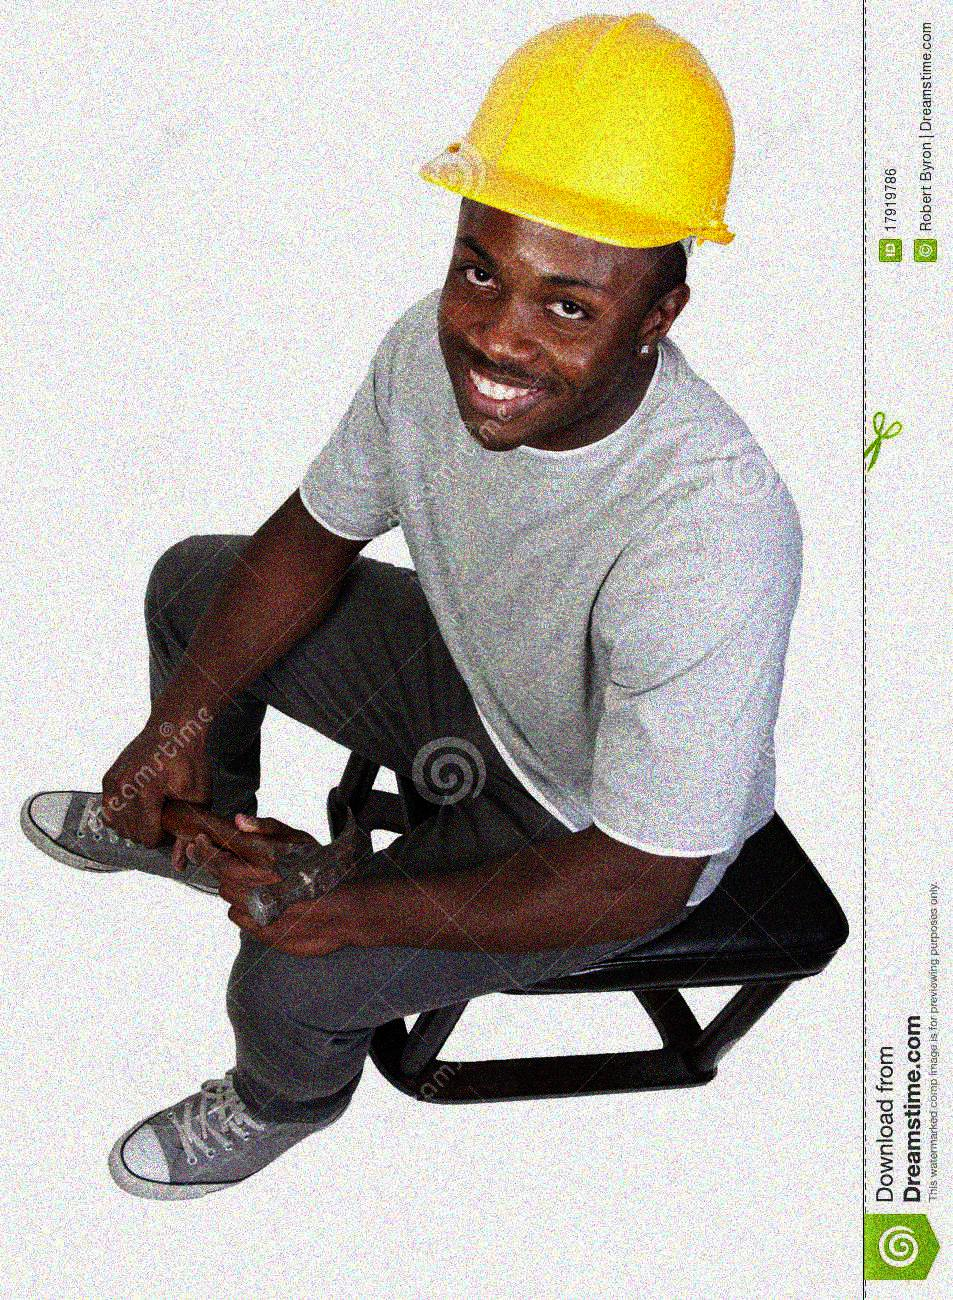helmet: (421, 7, 743, 440)
